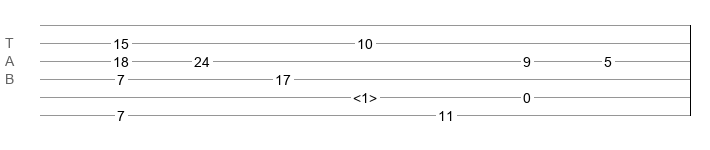0: (523, 90, 531, 100)
10: (357, 36, 373, 46)
11: (438, 108, 454, 118)
15: (113, 36, 129, 46)
17: (275, 72, 291, 82)
18: (113, 54, 129, 64)
24: (194, 54, 210, 64)
5: (604, 54, 612, 64)
7: (117, 108, 125, 118), (117, 72, 125, 82)
9: (523, 54, 531, 64)
harmonic: (353, 90, 377, 100)
